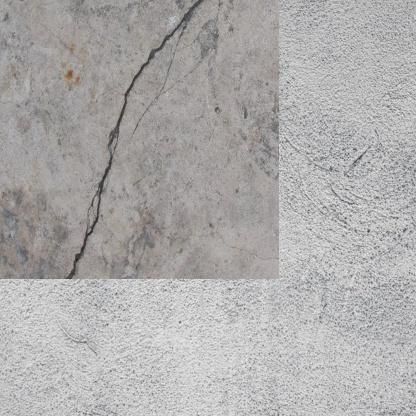Cracks: (57, 0, 218, 258), (121, 63, 181, 127), (174, 212, 258, 243), (0, 45, 15, 98)
